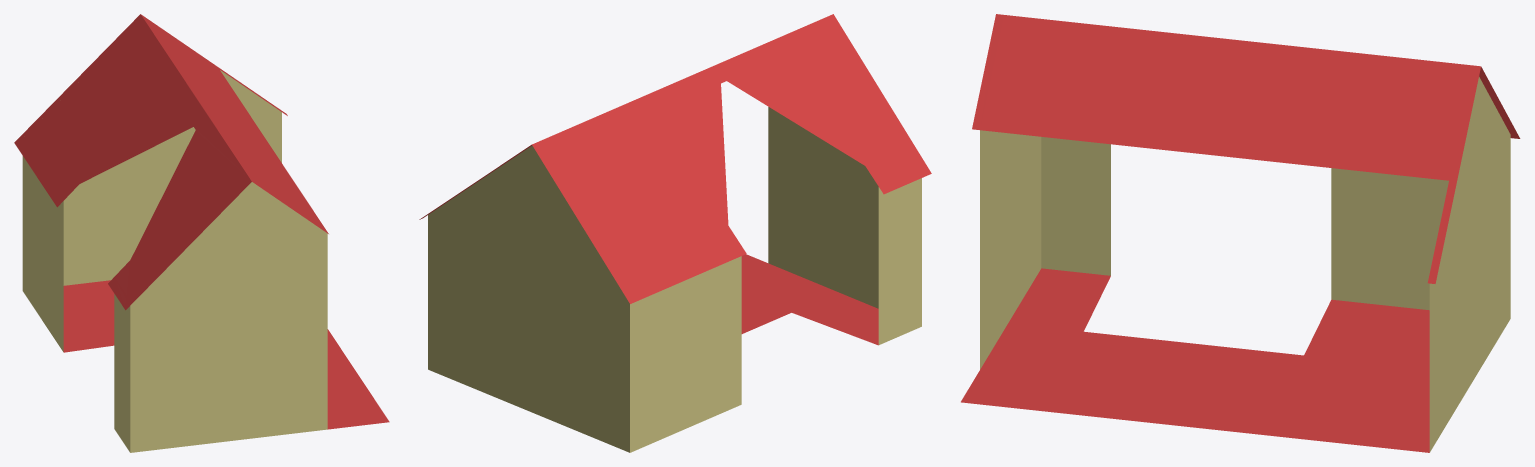
3 renders of one model, left to right at view 1: azimuth 30°, elevation 25°; view 2: azimuth 150°, elevation 25°; view 3: azimuth 270°, elevation 25°, orthographic. The views are drawn at different scales.
Bounding box in the file's own units: 13.93 × 17.07 × 10.61.
